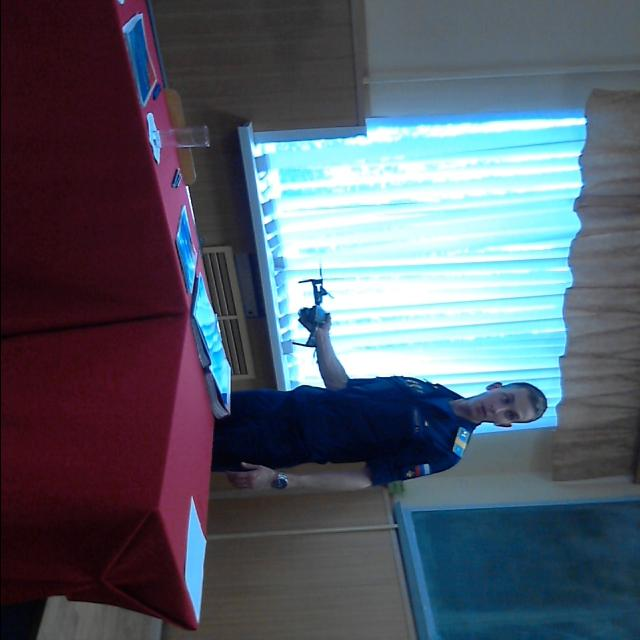drone: (286, 264, 358, 360)
